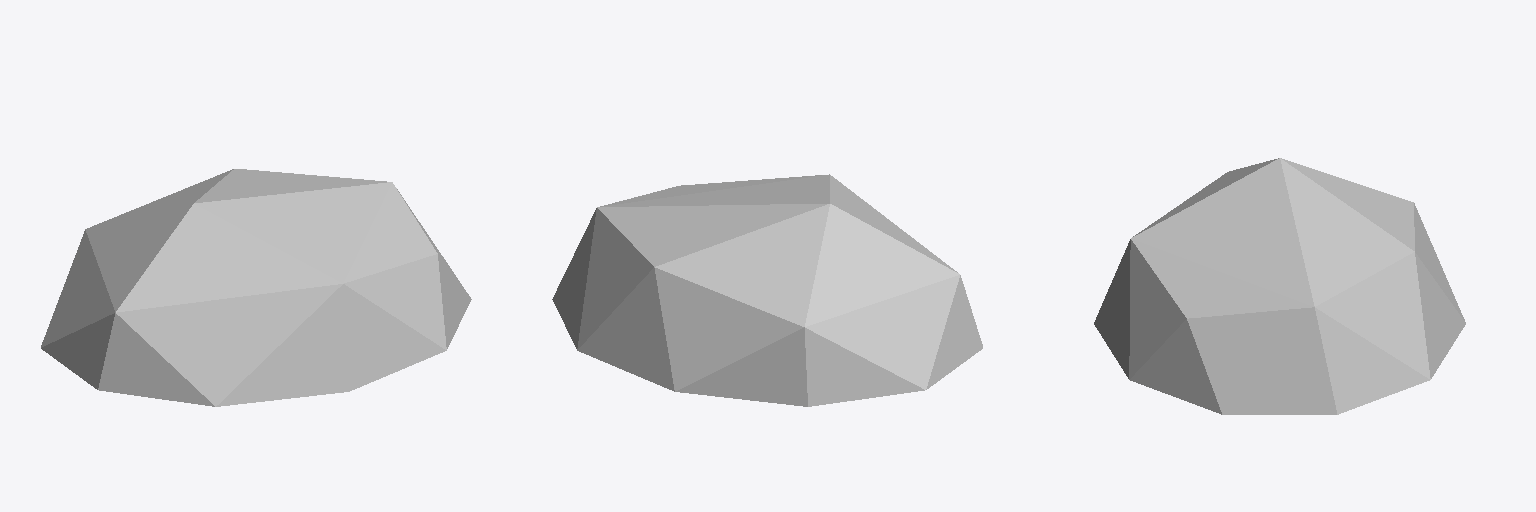
Rendered from Natures_Rock_Big.obj.
3 renders of one model, left to right at view 1: azimuth 30°, elevation 25°; view 2: azimuth 150°, elevation 25°; view 3: azimuth 270°, elevation 25°, orthographic.
Visible parts, largest first — view 1: Natures_Rock_Big; view 2: Natures_Rock_Big; view 3: Natures_Rock_Big.
Boxes of the visible parts, x1=… form: Natures_Rock_Big: x1=41, y1=169, x2=471, y2=406; Natures_Rock_Big: x1=552, y1=174, x2=982, y2=406; Natures_Rock_Big: x1=1094, y1=158, x2=1465, y2=414.
Bounding box in the file's own units: 114 × 39.49 × 98.49.